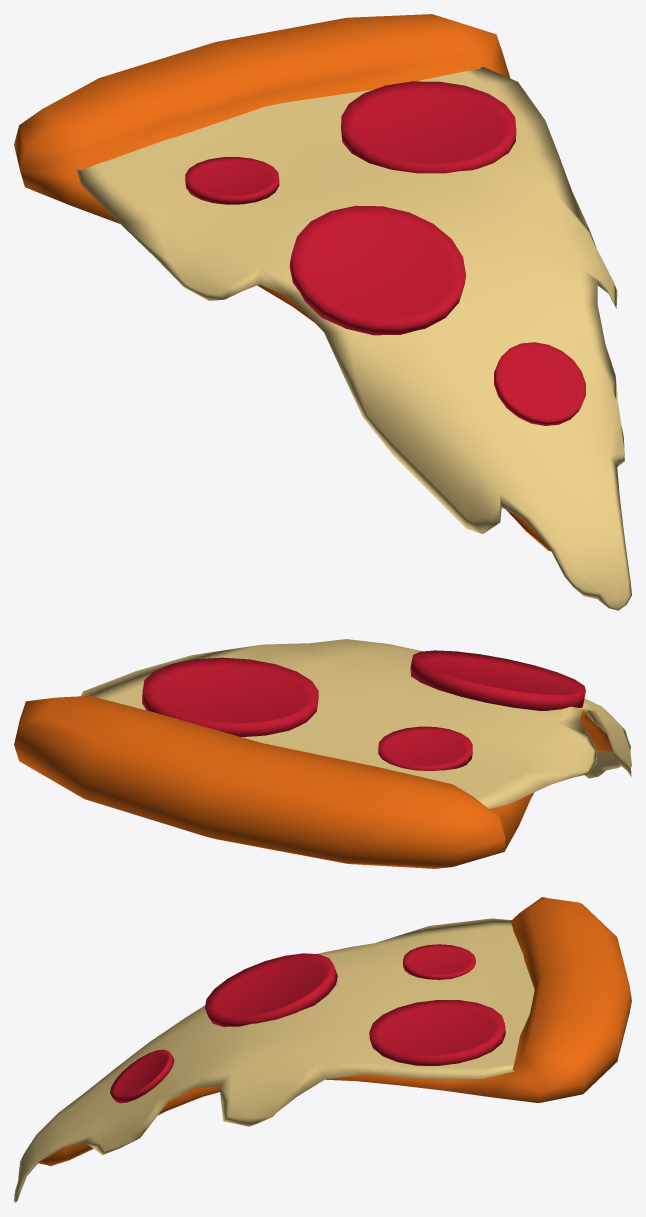
File: Pizza.fbx
3 views of the same model, one above another, from view 1: azimuth 30°, elevation 25°; view 2: azimuth 150°, elevation 25°; view 3: azimuth 270°, elevation 25° (orthographic). The views are drawn at different scales.
Visible parts, largest first — view 1: Cube.001; view 2: Cube.001; view 3: Cube.001.
Boxes of the visible parts, x1,y1,x2,y2 form: Cube.001: [14, 14, 631, 610]; Cube.001: [14, 639, 631, 868]; Cube.001: [14, 897, 631, 1202].
Size of the model in its own units: 14.77 by 8.63 by 21.2.
